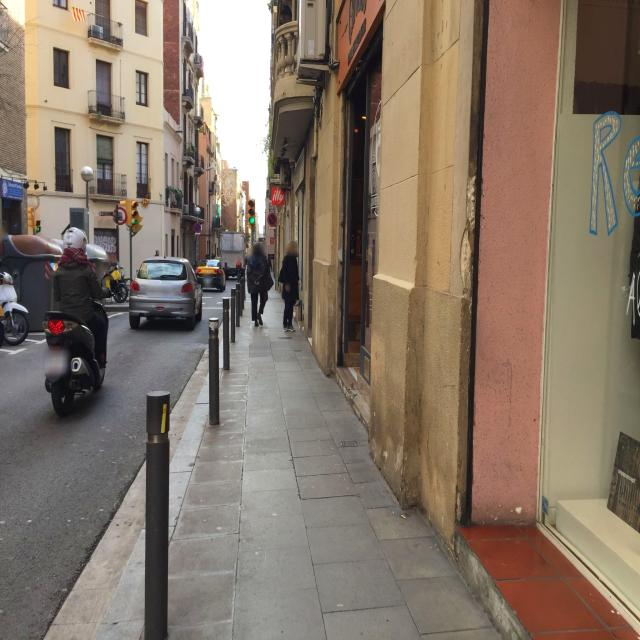bike: (41, 272, 112, 420), (0, 269, 30, 347), (103, 260, 132, 304)
car: (127, 256, 203, 332), (196, 263, 225, 292)
